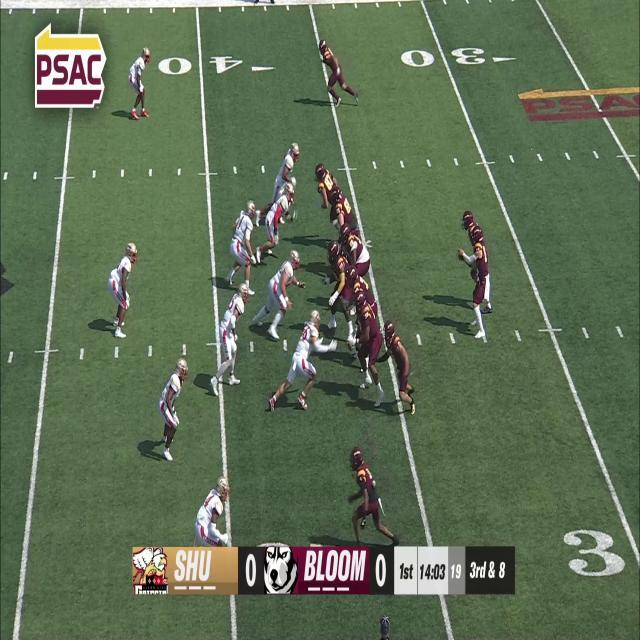football: (456, 245, 466, 262)
